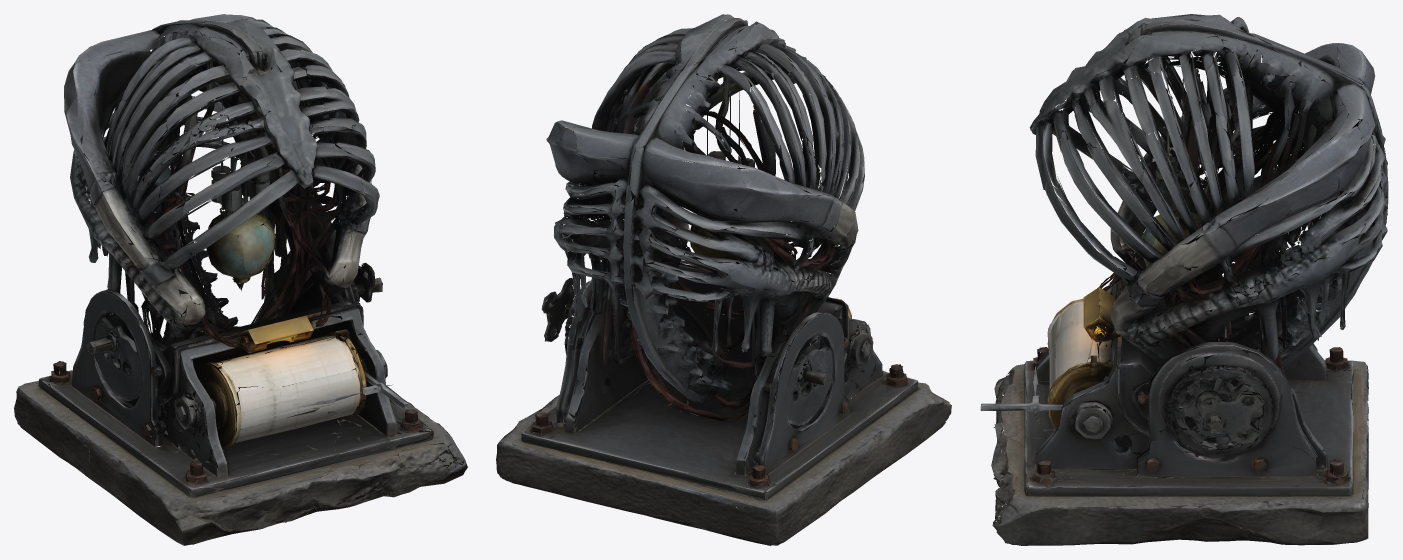
File: chasm_seismic_geophone_station.glb
The picture shows the model from 3 angles, left to right: view 1: azimuth 30°, elevation 25°; view 2: azimuth 150°, elevation 25°; view 3: azimuth 270°, elevation 25°; orthographic projection. The views are drawn at different scales.
Visible parts, largest first — view 1: node_0; view 2: node_0; view 3: node_0.
Part boxes in pixels (box(x1,y1,x2,y2)): node_0: box(14, 14, 467, 545); node_0: box(496, 14, 951, 545); node_0: box(980, 14, 1388, 545).
Bounding box in the file's own units: 0.6288 × 0.845 × 0.6924.
Materials: 1 (1 with a texture image).
